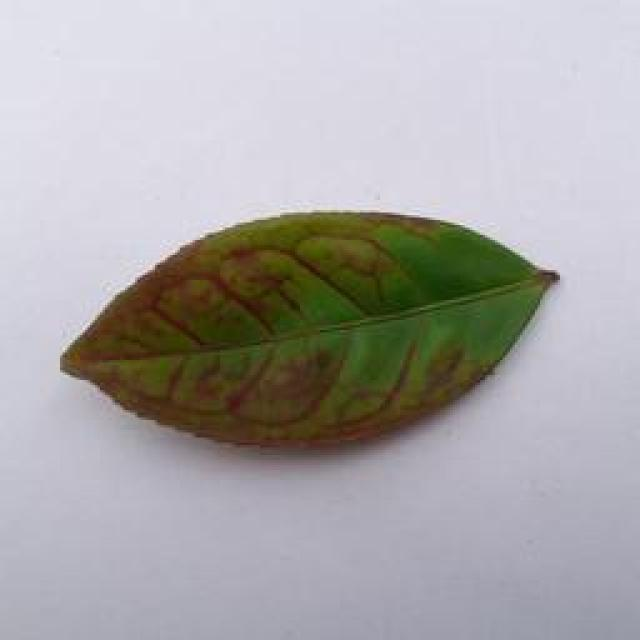Red Leaf Spot: (47, 178, 565, 432)
